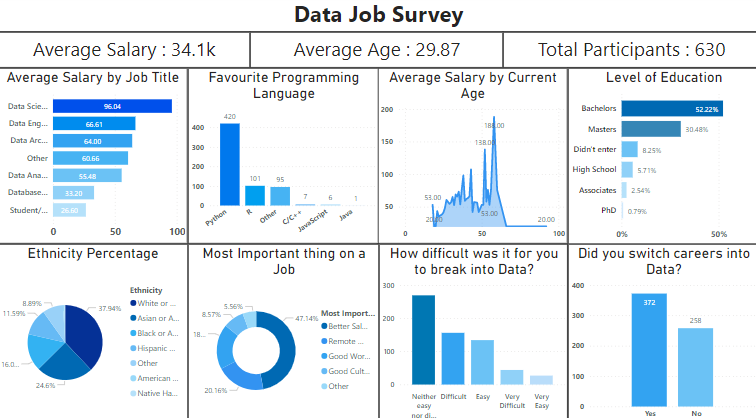

The dashboard page shown, as its layout file describes it:
{"tool":"powerbi","page":{"name":"Primary","canvas":[1280,720],"ordinal":0},"visuals":[{"type":"barChart","title":"Average Salary by Job Title","fields":{"Category":["Data Professional Survey.Q1 - Which Title Best Fits your Current Role?.1"],"Y":["Avg(Data Professional Survey.Average Salary)"],"Series":["Data Professional Survey.Q1 - Which Title Best Fits your Current Role?.1"]},"box":[0,122.6,320,295],"z":0},{"type":"areaChart","fields":{"Category":["Data Professional Survey.Q10 - Current Age"],"Y":["Avg(Data Professional Survey.Average Salary)"]},"box":[638.3,122.6,320,295],"z":1000},{"type":"columnChart","title":"Favourite Programming Language","fields":{"Category":["Data Professional Survey.Q5 - Favorite Programming Language.1"],"Y":["Count(Data Professional Survey.Unique ID)"],"Series":["Data Professional Survey.Q5 - Favorite Programming Language.1"]},"box":[320.8,122.6,320,295],"z":2000},{"type":"textbox","box":[0,0,1280,62.2],"z":3000},{"type":"clusteredBarChart","title":"Level of Education","fields":{"Category":["Data Professional Survey.Q12 - Highest Level of Education"],"Y":["CountNonNull(Data Professional Survey.Unique ID)"]},"box":[959.2,122.6,320.8,295.6],"z":4000},{"type":"pieChart","title":" Ethnicity Percentage","fields":{"Category":["Data Professional Survey.Q13 - Ethnicity.1"],"Y":["CountNonNull(Data Professional Survey.Unique ID)"]},"box":[0,418.3,320.8,302.4],"z":5000},{"type":"donutChart","title":"Most Important thing on a Job","fields":{"Category":["Data Professional Survey.Q8 - If you were to look for a new job today, what would be the most important t"],"Y":["CountNonNull(Data Professional Survey.Unique ID)"]},"box":[320.8,418.3,320.8,302.4],"z":6000},{"type":"columnChart","title":"How difficult was it for you to break into Data?","fields":{"Category":["Data Professional Survey.Q7 - How difficult was it for you to break into Data?"],"Y":["CountNonNull(Data Professional Survey.Unique ID)"]},"box":[641.7,418.3,317.5,302.4],"z":7000},{"type":"columnChart","title":"Did you switch careers into Data?","fields":{"Category":["Data Professional Survey.Q2 - Did you switch careers into Data?"],"Y":["CountNonNull(Data Professional Survey.Unique ID)"]},"box":[959.2,418.3,320.8,302.4],"z":8000},{"type":"textbox","box":[850,62.2,430,60.5],"z":9000},{"type":"textbox","box":[425,62.2,425,60.5],"z":10000},{"type":"textbox","box":[0,62.2,425,60.5],"z":11000}]}

Visuals, with their boxes in screenshot pixels (x1, y1, x2, y2), scaled from the page's 1280x720 canvas onto the 756x418 screenshot:
"Average Salary by Job Title" barChart: rect(0, 71, 189, 242)
areaChart - Data Professional Survey.Q10 - Current Age x Avg(Data Professional Survey.Average Salary): rect(377, 71, 566, 242)
"Favourite Programming Language" columnChart: rect(189, 71, 378, 242)
textbox: rect(0, 0, 755, 36)
"Level of Education" clusteredBarChart: rect(567, 71, 755, 243)
" Ethnicity Percentage" pieChart: rect(0, 243, 189, 417)
"Most Important thing on a Job" donutChart: rect(189, 243, 379, 417)
"How difficult was it for you to break into Data?" columnChart: rect(379, 243, 567, 417)
"Did you switch careers into Data?" columnChart: rect(567, 243, 755, 417)
textbox: rect(502, 36, 755, 71)
textbox: rect(251, 36, 502, 71)
textbox: rect(0, 36, 251, 71)
